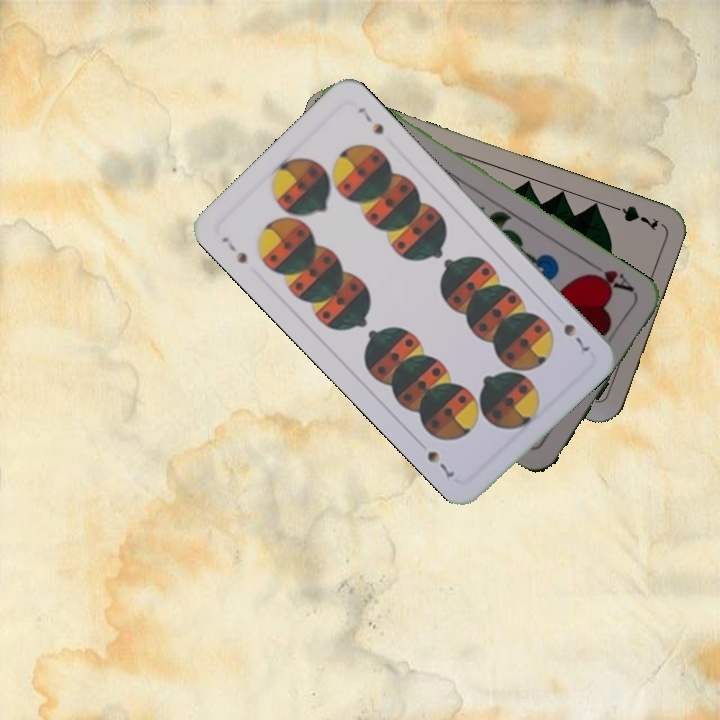G7: (604, 200, 662, 234)
HA: (583, 258, 638, 297)
S7: (559, 320, 593, 355), (217, 232, 250, 266)
